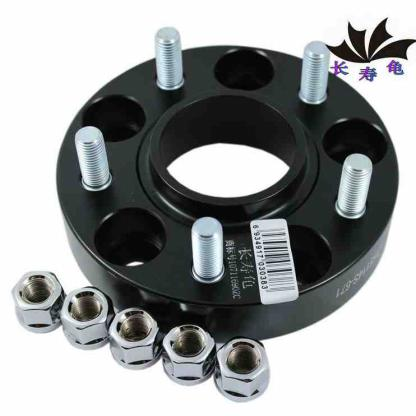FOD: (42, 41, 395, 343)
